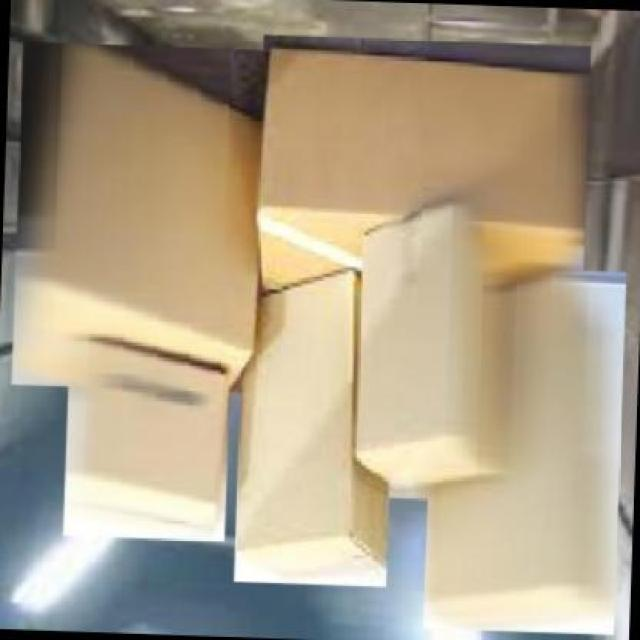box: (8, 36, 270, 398), (250, 30, 598, 298), (420, 259, 631, 639), (232, 252, 400, 593), (351, 182, 504, 506), (62, 328, 235, 544)
